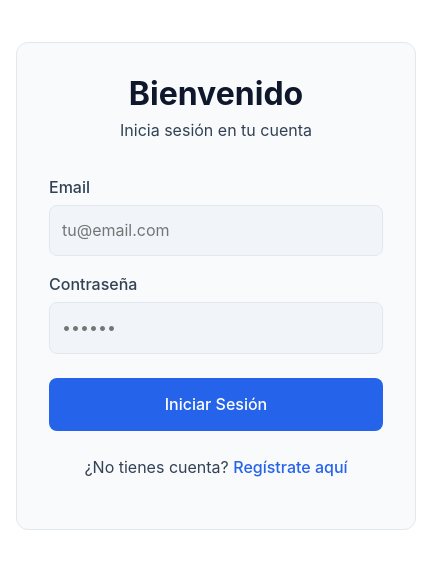
Test: Flujo de Autenticación › Login › debe validar campos vacíos
Click the button "Iniciar Sesión".
click(216, 404)  # box [49,378,383,431]
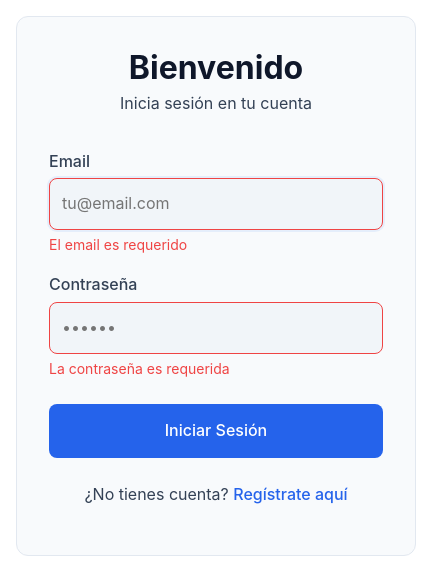
Expected: the text "El email es requerido" is shown, [49,236,187,253]
Expected: the text "La contraseña es requerida" is shown, [49,360,230,377]
